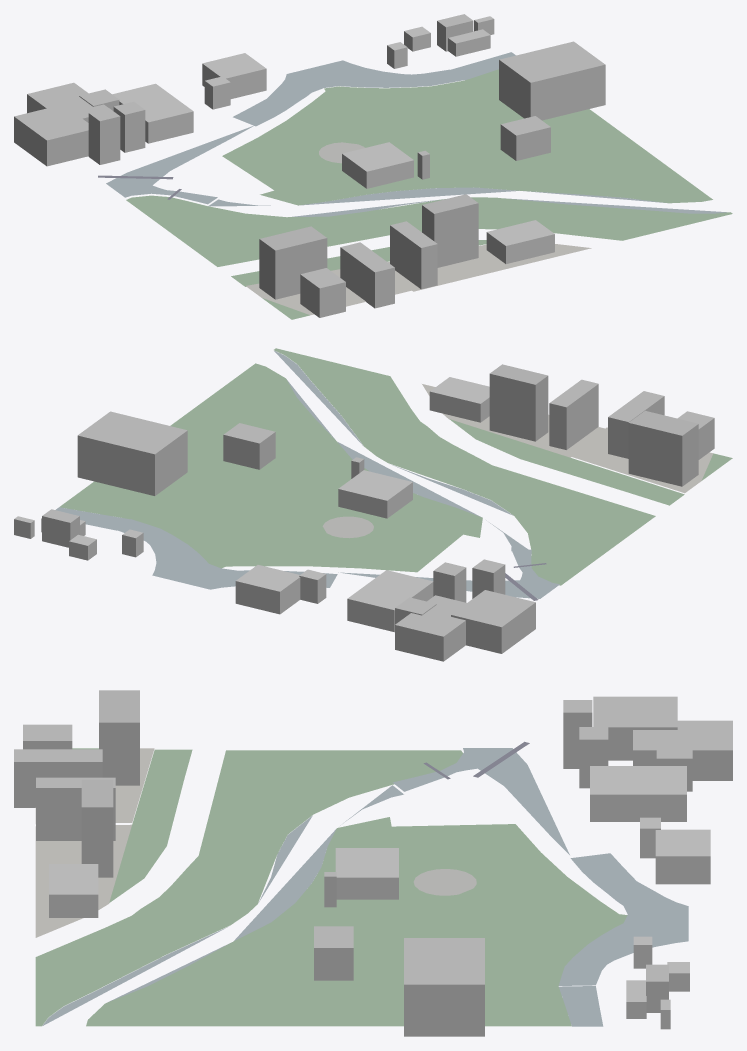
Rendered from 117_112_mid.glb.
3 renders of one model, top to bottom at view 1: azimuth 30°, elevation 25°; view 2: azimuth 150°, elevation 25°; view 3: azimuth 270°, elevation 25°, orthographic. The views are drawn at different scales.
Size of the model in its own units: 549 by 60.41 by 551.
